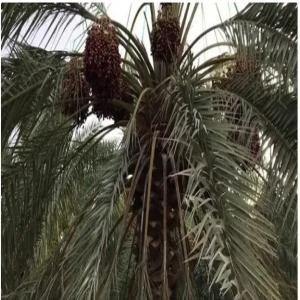palm tree: (1, 1, 297, 299)
